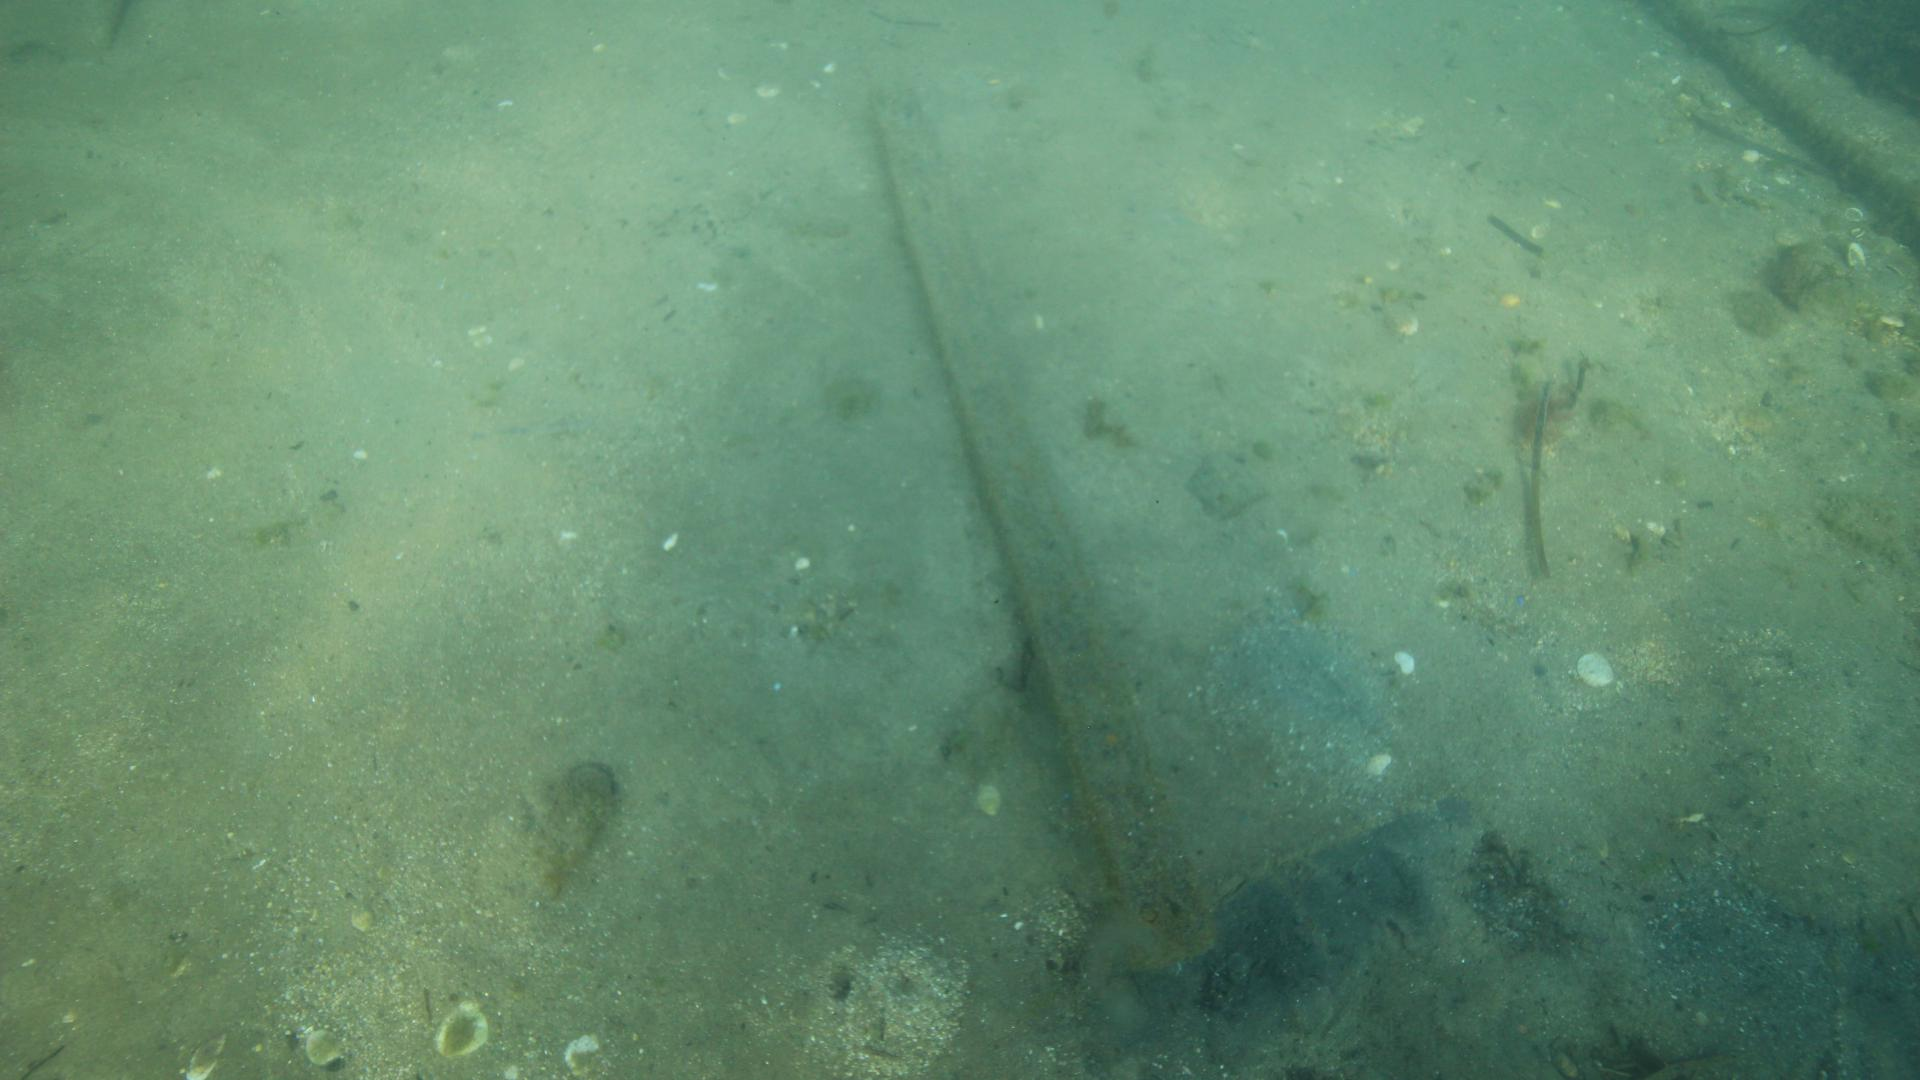wood: (876, 96, 1209, 942)
